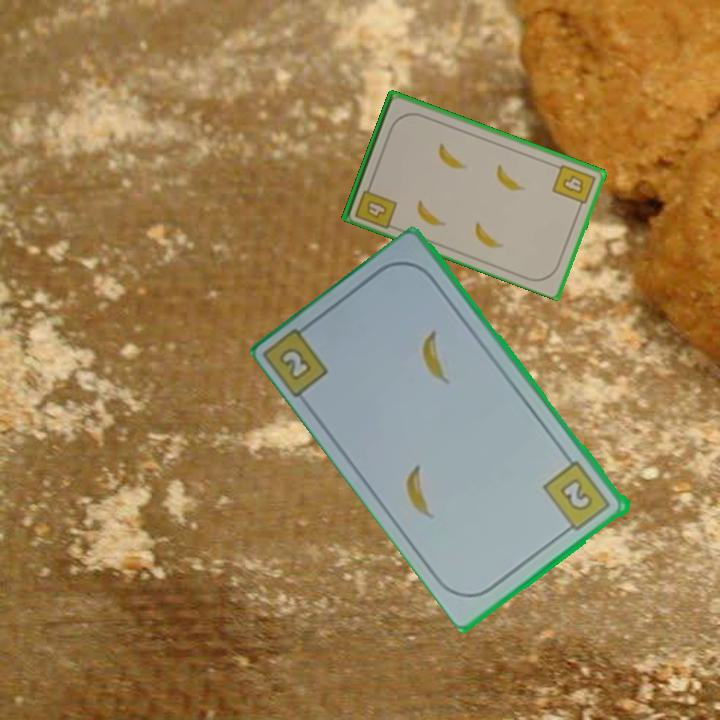2b: (540, 457, 614, 537), (263, 317, 332, 402)
4b: (351, 178, 400, 231), (548, 161, 598, 212)
